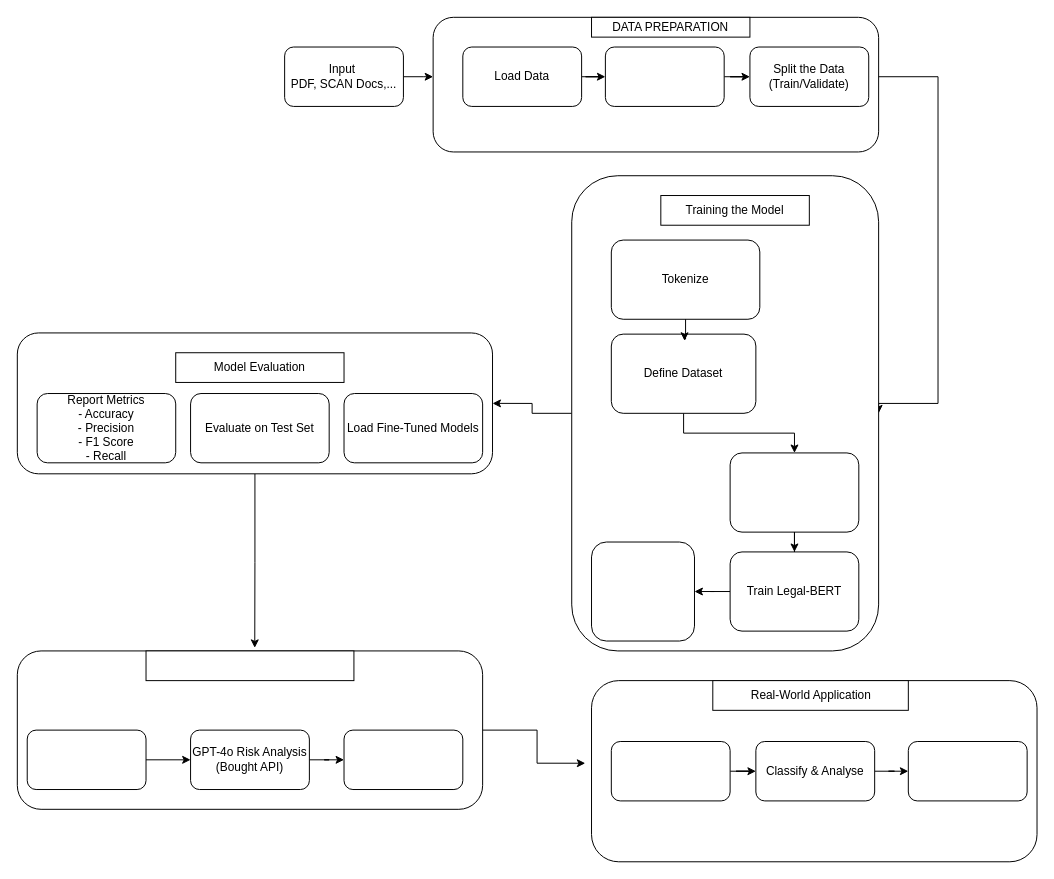
Some shapes in this 1054 by 879 pixel diagram are drawn without their labels. Here are the shapes that lost their labels. From the top down, the centre of each, then its label:
At (664,76): "Preprocess".
At (794,492): "K-Fold Cross Validation".
At (642,591): "Evaluation on Validation Set".
At (249,665): "Clause Classification and Analysis".
At (86,759): "Legal-BERT Classification".
At (403,759): "Integrate Results".
At (670,771): "Input Clause".
At (967,771): "General Final Output".
